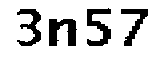3: (14, 6, 42, 50)
5: (83, 4, 117, 47)
7: (118, 7, 155, 48)
n: (45, 13, 80, 49)
